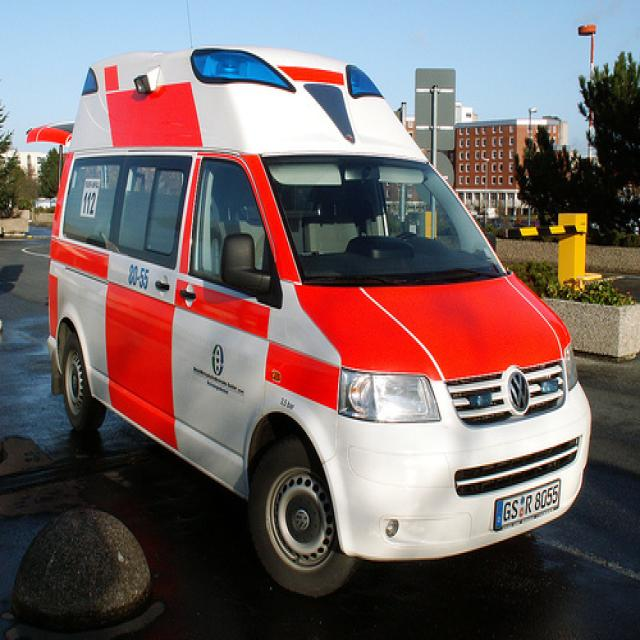emergency-vehicle: (45, 51, 587, 572)
